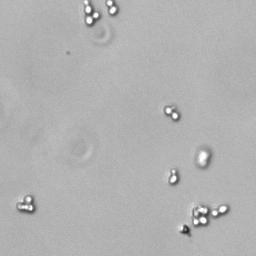budding: (163, 104, 180, 122), (211, 202, 229, 219), (105, 1, 118, 16), (168, 168, 179, 185)
cluster: (80, 1, 101, 27), (15, 195, 37, 214)
individual: (179, 224, 190, 235)
